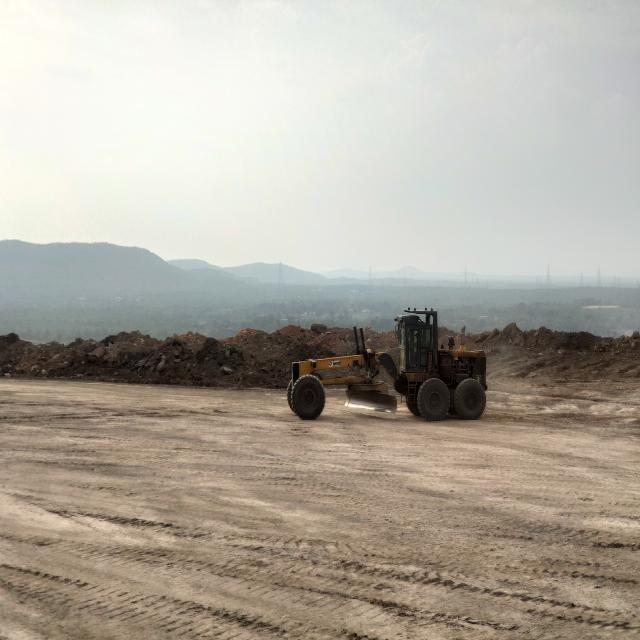buldozerpayloadergrader: (288, 308, 486, 420)
